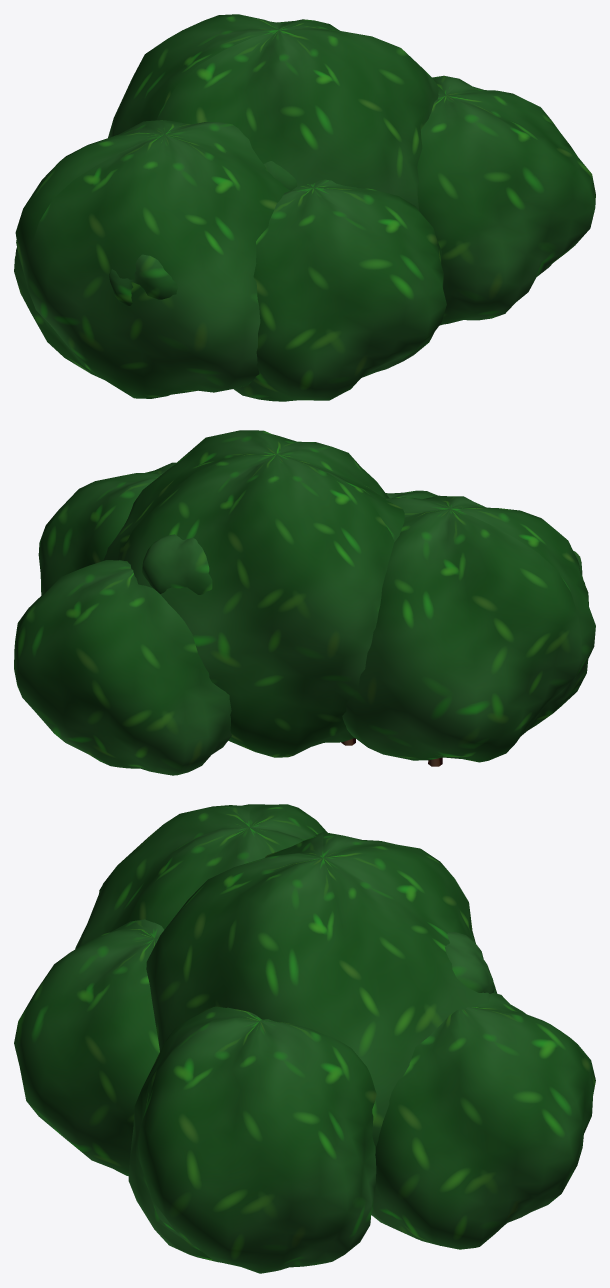
File: shrub-native-cluster.lod0.gltf
The picture shows the model from 3 angles, top to bottom: view 1: azimuth 30°, elevation 25°; view 2: azimuth 150°, elevation 25°; view 3: azimuth 270°, elevation 25°; orthographic projection. The views are drawn at different scales.
Visible parts, largest first — view 1: shrub-native-cluster; view 2: shrub-native-cluster; view 3: shrub-native-cluster.
Part boxes in pixels (x1=…): shrub-native-cluster: x1=14, y1=14, x2=595, y2=401; shrub-native-cluster: x1=14, y1=430, x2=595, y2=775; shrub-native-cluster: x1=14, y1=804, x2=595, y2=1273.
Size of the model in its own units: 3.33 by 1.74 by 2.77.
Materials: 2 (2 with a texture image).
